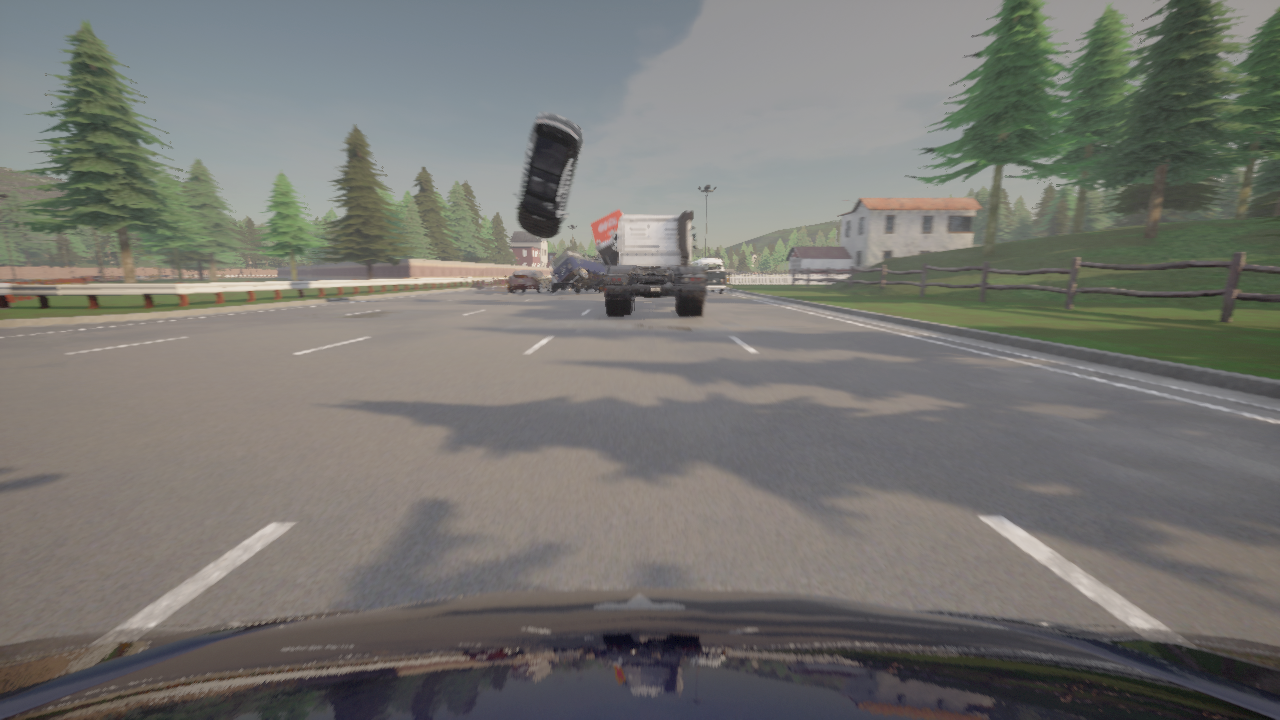cyclist: (0, 588, 1279, 719), (606, 210, 706, 315), (514, 111, 583, 238), (551, 249, 606, 292), (591, 209, 623, 265), (692, 259, 725, 294), (508, 269, 551, 293), (551, 274, 581, 292), (735, 272, 736, 273)
